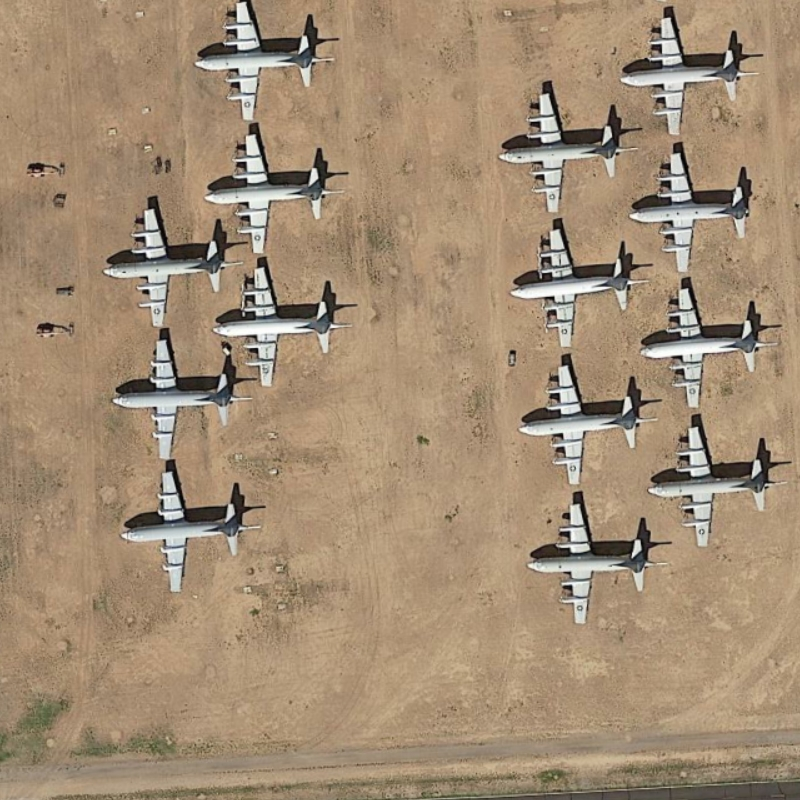A9: (109, 458, 267, 599), (187, 127, 352, 262), (486, 219, 651, 353), (637, 419, 796, 555), (504, 357, 662, 488), (523, 486, 671, 622), (494, 83, 643, 217), (109, 326, 256, 461), (184, 3, 342, 128), (642, 277, 784, 414), (619, 8, 767, 139), (209, 261, 359, 389), (98, 203, 244, 332), (620, 144, 765, 272)
